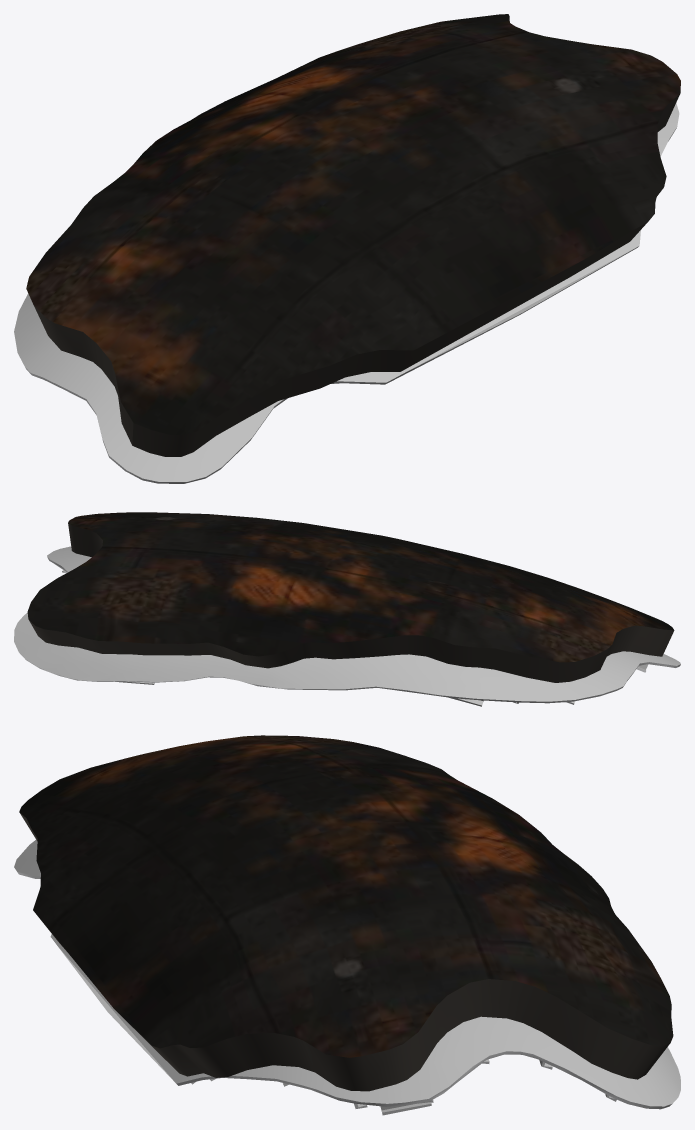
The model's file is capsule_heatshield_panel_lod1.glb.
3 renders of one model, top to bottom at view 1: azimuth 30°, elevation 25°; view 2: azimuth 150°, elevation 25°; view 3: azimuth 270°, elevation 25°, orthographic. The views are drawn at different scales.
Parts seen in each view (by area): view 1: capsule_heatshield_panel; view 2: capsule_heatshield_panel; view 3: capsule_heatshield_panel.
Boxes of the visible parts, x1,y1,x2,y2 form: capsule_heatshield_panel: (14,14,680,483); capsule_heatshield_panel: (14,512,680,706); capsule_heatshield_panel: (14,735,680,1115).
Bounding box in the file's own units: 1.23 × 0.3131 × 0.8901.
6 materials, 1 textured.
